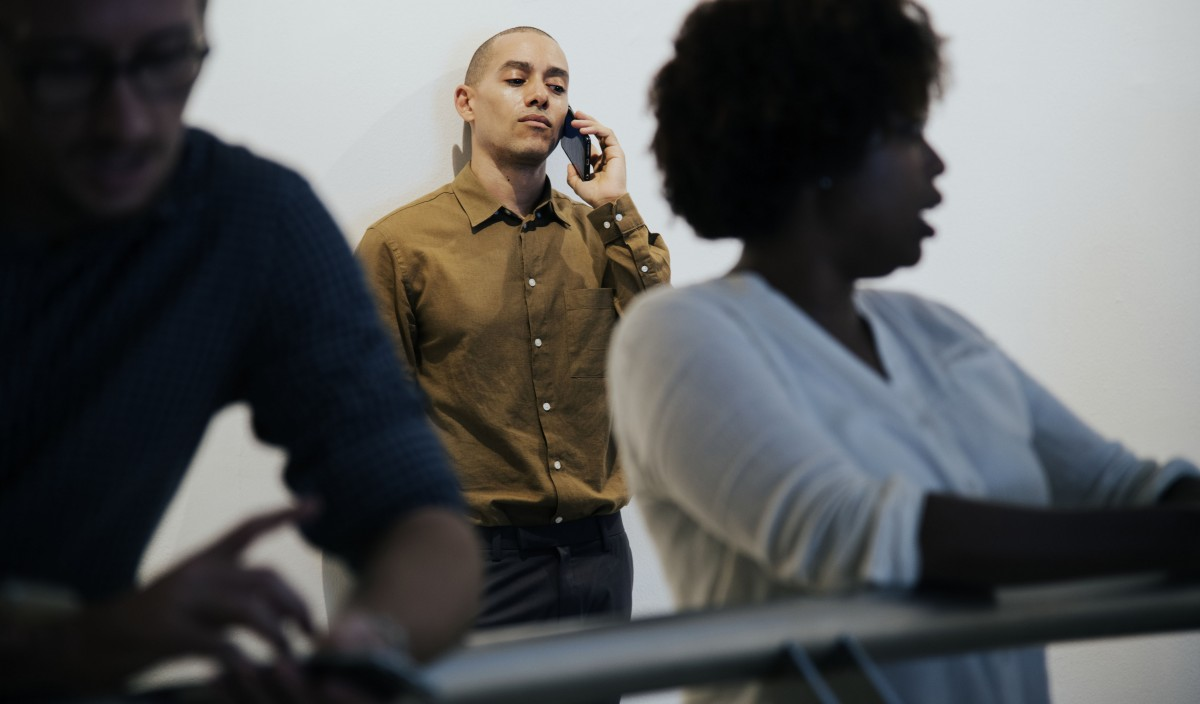phone: (555, 107, 614, 186)
talk: (492, 57, 634, 213)
